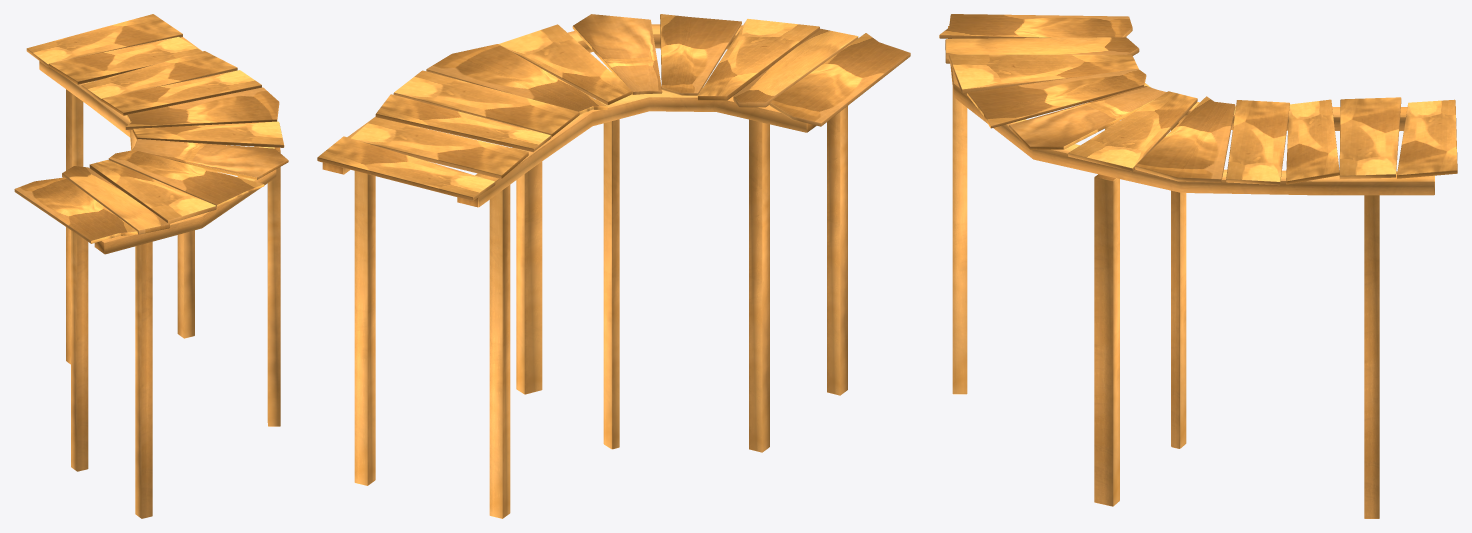
Rendered from SM_Dock_Curved_2.fbx.
3 renders of one model, left to right at view 1: azimuth 30°, elevation 25°; view 2: azimuth 150°, elevation 25°; view 3: azimuth 270°, elevation 25°, orthographic. The views are drawn at different scales.
Visible parts, largest first — view 1: SM_Dock_Curved_2_LOD0; view 2: SM_Dock_Curved_2_LOD0; view 3: SM_Dock_Curved_2_LOD0.
Part boxes in pixels (bbox=[...]): SM_Dock_Curved_2_LOD0: bbox=[14, 14, 288, 518]; SM_Dock_Curved_2_LOD0: bbox=[317, 14, 910, 518]; SM_Dock_Curved_2_LOD0: bbox=[939, 14, 1457, 518].
Bounding box in the file's own units: 475 × 622 × 461.
